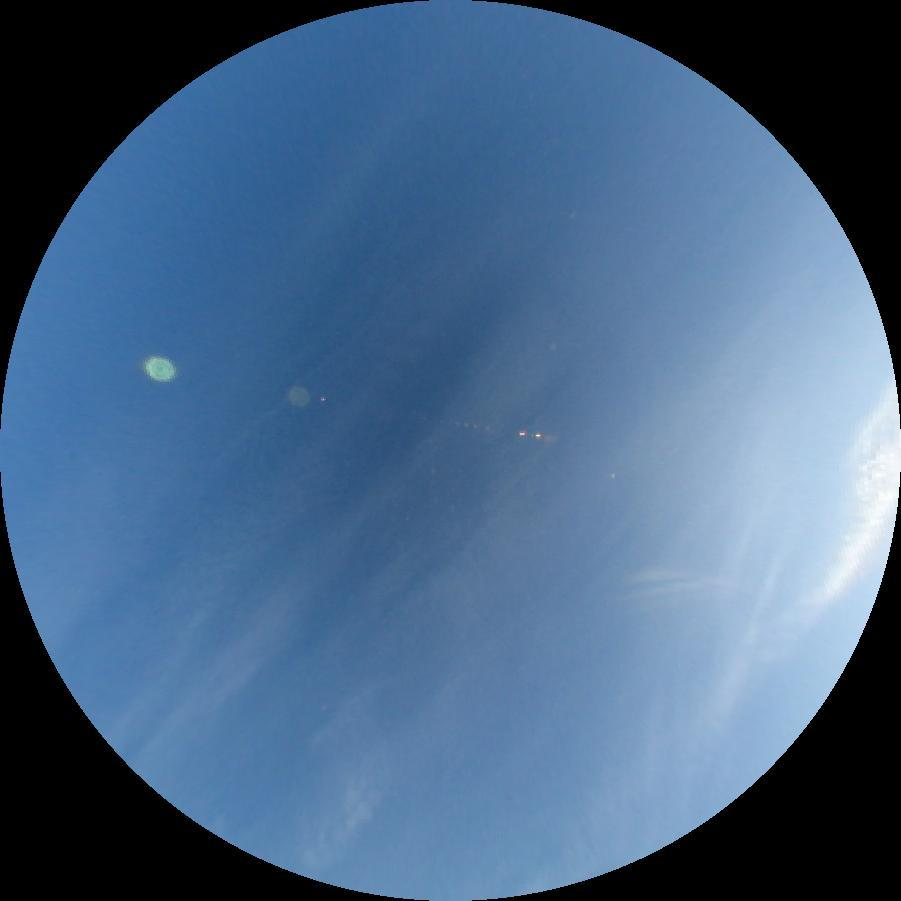parasite: (621, 564, 697, 586)
